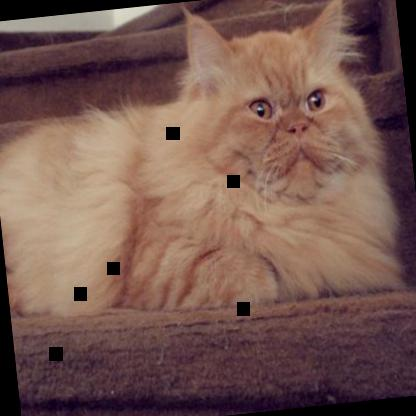cat: (0, 0, 397, 330)
